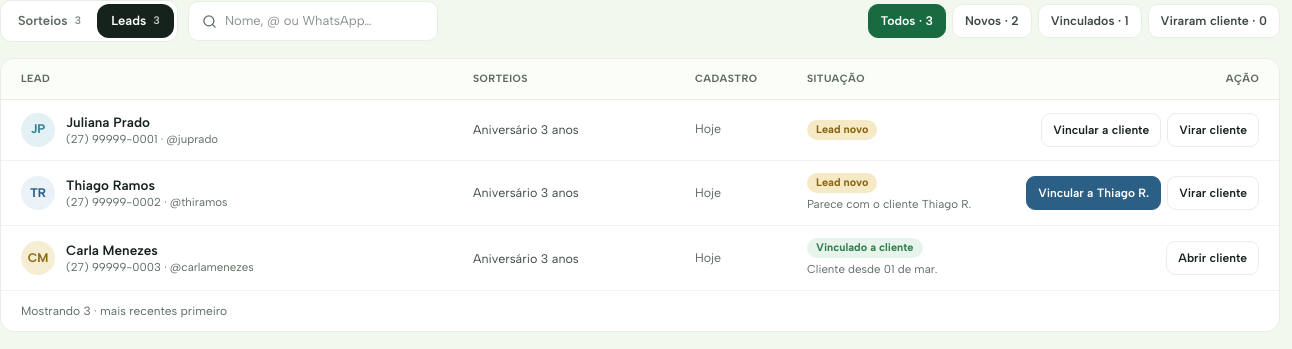
LeadsClient › counts leads by situation and filters by chip
Expected: the button "Todos · 3" is shown, [868,4,946,38]
Expected: the button "Novos · 2" is shown, [952,4,1032,38]
Click the button "Vinculados · 1".
click(1090, 21)  # box [1038,4,1142,38]
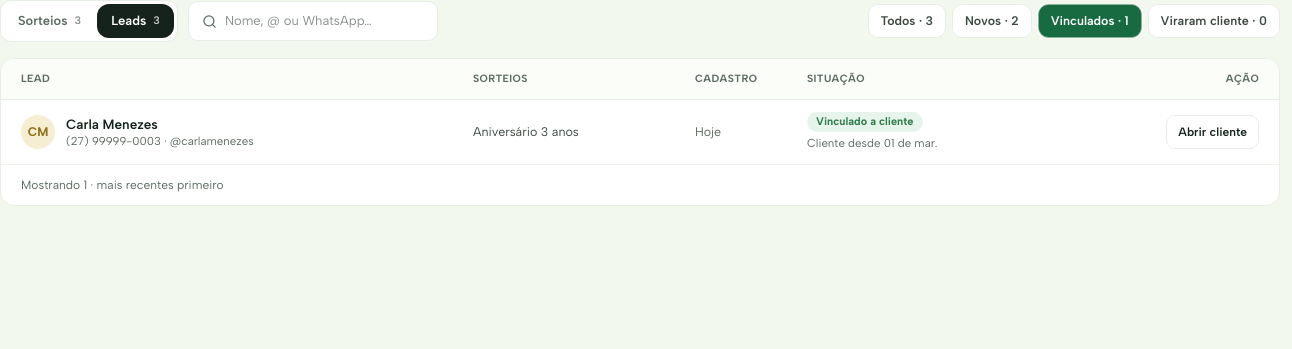
Expected: the text "Carla Menezes" is shown, [66,116,158,132]
Expected: the text "Juliana Prado" is gone
